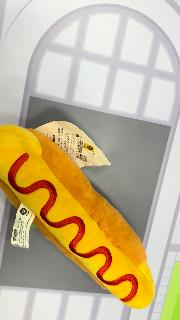hotdog: (0, 124, 156, 310)
